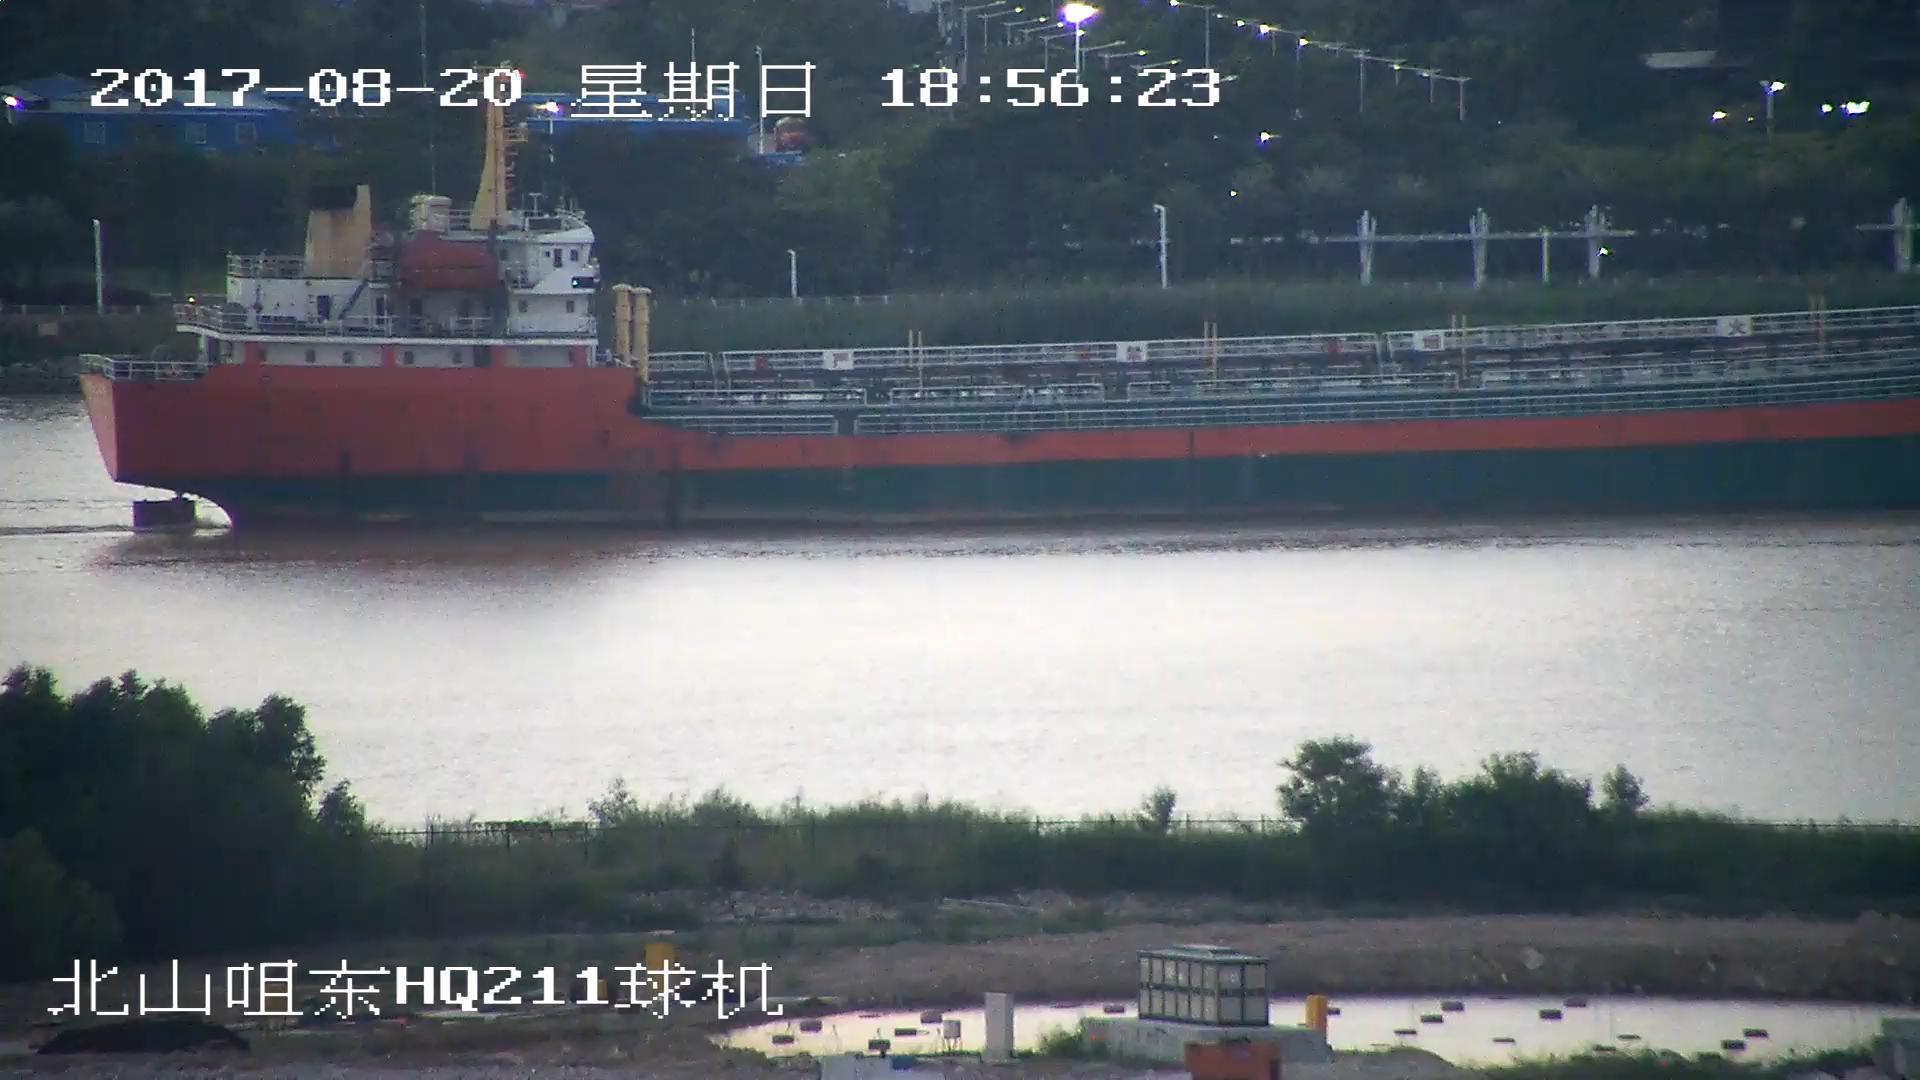general cargo ship: (65, 112, 1920, 532)
